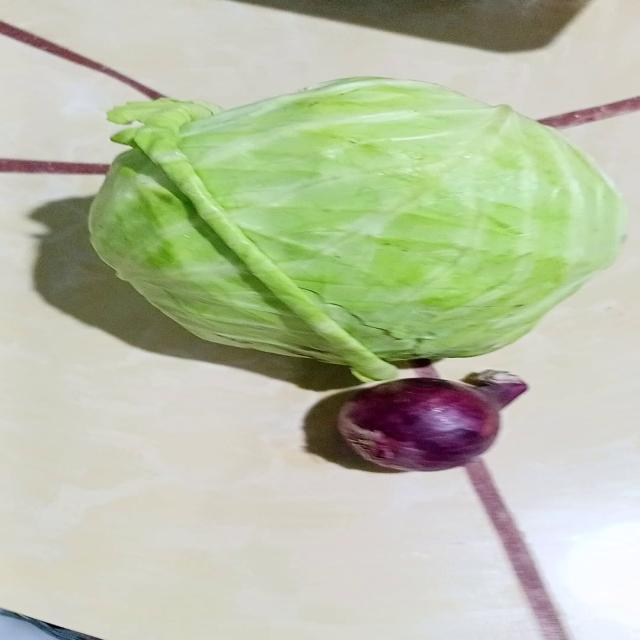cabbage: (86, 78, 622, 384)
onion: (331, 373, 526, 474)
